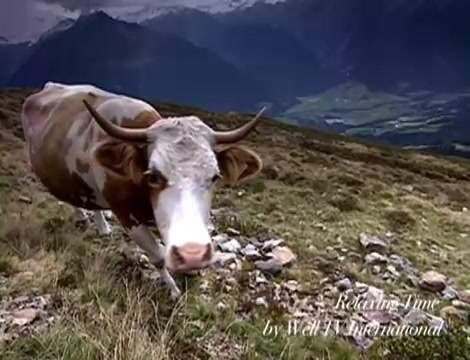cow: (22, 78, 272, 299)
